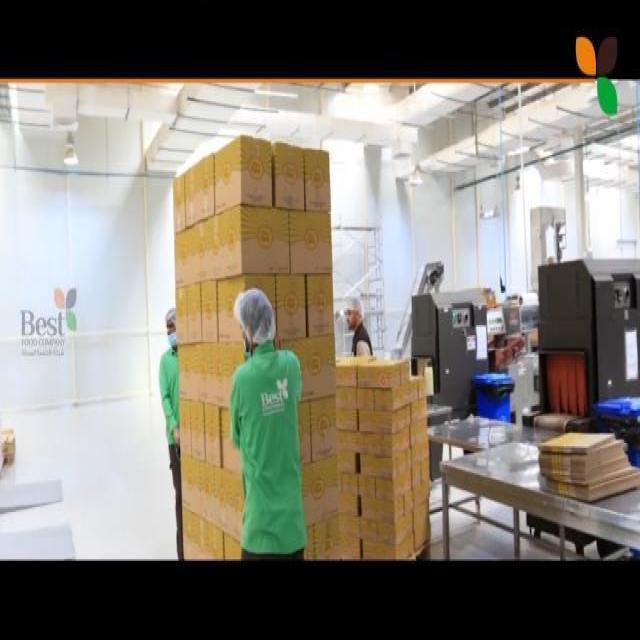bare_hand: (170, 423, 184, 453)
